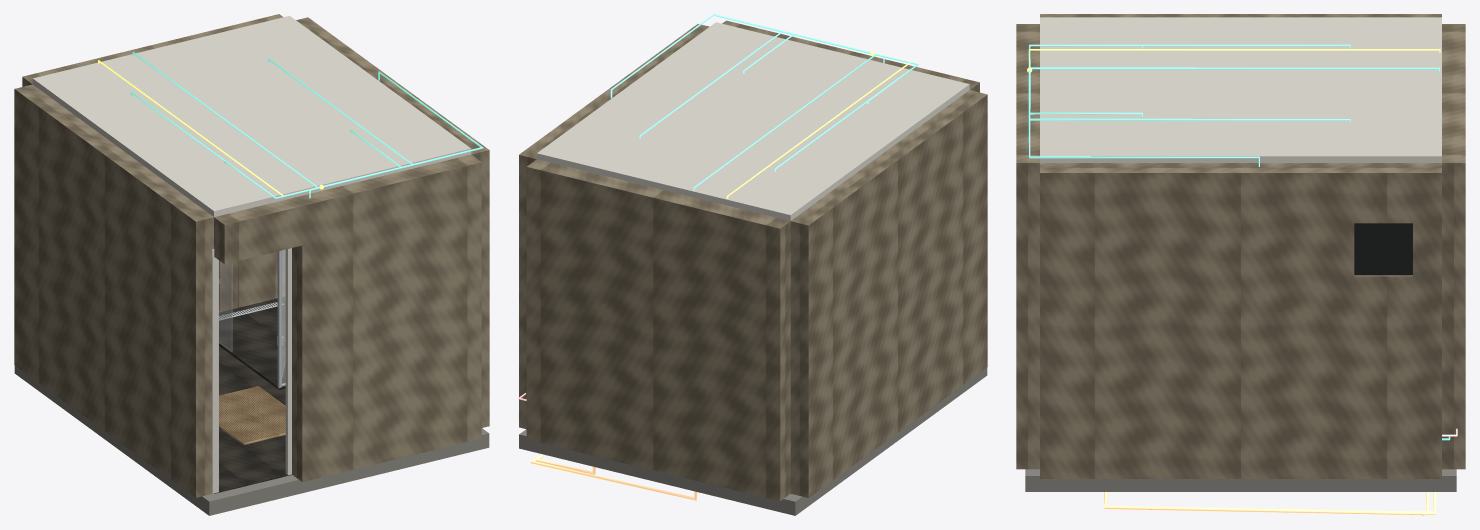
The model's file is 18_Alternatif_6_1.glb.
3 views of the same model, side by side, from view 1: azimuth 30°, elevation 25°; view 2: azimuth 150°, elevation 25°; view 3: azimuth 270°, elevation 25° (orthographic). The views are drawn at different scales.
Visible parts, largest first — view 1: Ön duvar | sunum için gizli, Sol duvar, Tavan | plan görünümünde gizlenir, Zemin taşıyıcı, Sağ duvar / gerçek pencere boşluğu, Arka duvar / gerçek niş boşlukları, Duş eğimli zemin sınırı 90x140, Dokulu banyo paspası, Zemin seramik / derz 2mm, Kapı pervazı, Kapı pervazı.001, Kabin yan sabit cam (+4 smaller); view 2: Arka duvar / gerçek niş boşlukları, Sol duvar, Tavan | plan görünümünde gizlenir, Zemin taşıyıcı, Sağ duvar / gerçek pencere boşluğu, Ön duvar | sunum için gizli, E8-hat | Duş nişi LED kablo yolu, G1-hat | Lavabo gider çıkışı → ana gider; view 3: Sağ duvar / gerçek pencere boşluğu, Tavan | plan görünümünde gizlenir, Arka duvar / gerçek niş boşlukları, Ön duvar | sunum için gizli, Zemin taşıyıcı, Havalandırma karanlık iç boşluğu, Sol duvar, G2-hat | WC gider çıkışı → ana gider, E-3 | Ayna aydınlatma güzergâhı, E8-hat | Duş nişi LED kablo yolu, E-6 | Tavan ışığı 3 güzergâhı, E-2 | Priz besleme güzergâhı (+1 smaller).
Boxes of the visible parts, bbox=[...] form: Ön duvar | sunum için gizli: bbox=[214, 154, 481, 481]; Sol duvar: bbox=[14, 84, 213, 497]; Tavan | plan görünümünde gizlenir: bbox=[32, 15, 471, 216]; Zemin taşıyıcı: bbox=[14, 365, 489, 515]; Sağ duvar / gerçek pencere boşluğu: bbox=[296, 17, 489, 427]; Arka duvar / gerçek niş boşlukları: bbox=[22, 14, 285, 312]; Duş eğimli zemin sınırı 90x140: bbox=[219, 297, 285, 389]; Dokulu banyo paspası: bbox=[219, 386, 285, 445]; Zemin seramik / derz 2mm: bbox=[214, 447, 282, 493]; Kapı pervazı: bbox=[212, 257, 218, 493]; Kapı pervazı.001: bbox=[285, 248, 291, 475]; Kabin yan sabit cam: bbox=[219, 261, 232, 351]; Arka duvar / gerçek niş boşlukları: bbox=[526, 159, 790, 501]; Sol duvar: bbox=[790, 90, 987, 497]; Tavan | plan görünümünde gizlenir: bbox=[537, 22, 969, 220]; Zemin taşıyıcı: bbox=[519, 367, 987, 515]; Sağ duvar / gerçek pencere boşluğu: bbox=[519, 24, 709, 429]; Ön duvar | sunum için gizli: bbox=[722, 20, 979, 92]; E8-hat | Duş nişi LED kablo yolu: bbox=[610, 14, 870, 98]; G1-hat | Lavabo gider çıkışı → ana gider: bbox=[530, 458, 697, 500]; Sağ duvar / gerçek pencere boşluğu: bbox=[1040, 163, 1441, 478]; Tavan | plan görünümünde gizlenir: bbox=[1040, 17, 1441, 162]; Arka duvar / gerçek niş boşlukları: bbox=[1442, 24, 1465, 469]; Ön duvar | sunum için gizli: bbox=[1016, 24, 1039, 469]; Zemin taşıyıcı: bbox=[1025, 469, 1456, 491]; Havalandırma karanlık iç boşluğu: bbox=[1354, 223, 1412, 275]; Sol duvar: bbox=[1040, 14, 1441, 17]; G2-hat | WC gider çıkışı → ana gider: bbox=[1104, 492, 1421, 515]; E-3 | Ayna aydınlatma güzergâhı: bbox=[1030, 67, 1439, 71]; E8-hat | Duş nişi LED kablo yolu: bbox=[1028, 70, 1259, 166]; E-6 | Tavan ışığı 3 güzergâhı: bbox=[1030, 44, 1350, 48]; E-2 | Priz besleme güzergâhı: bbox=[1029, 49, 1440, 67].
Bounding box in the file's own units: 2.57 × 2.72 × 3.07.
22 materials, 4 textured.
